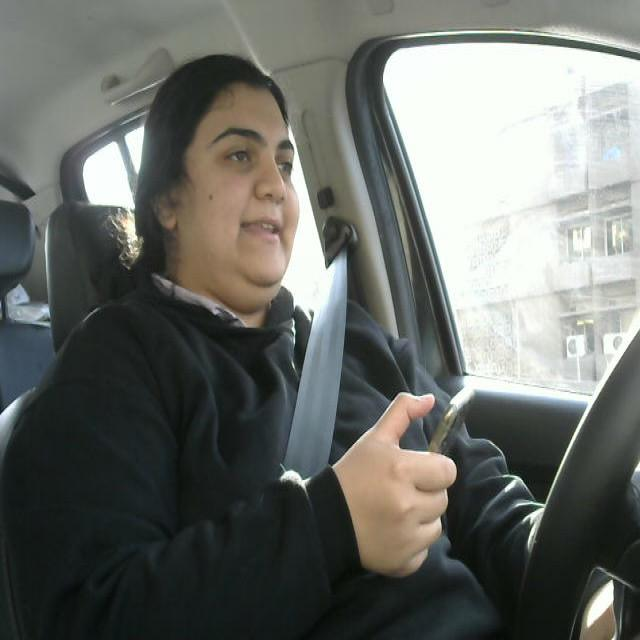mobile use: (413, 377, 489, 467)
